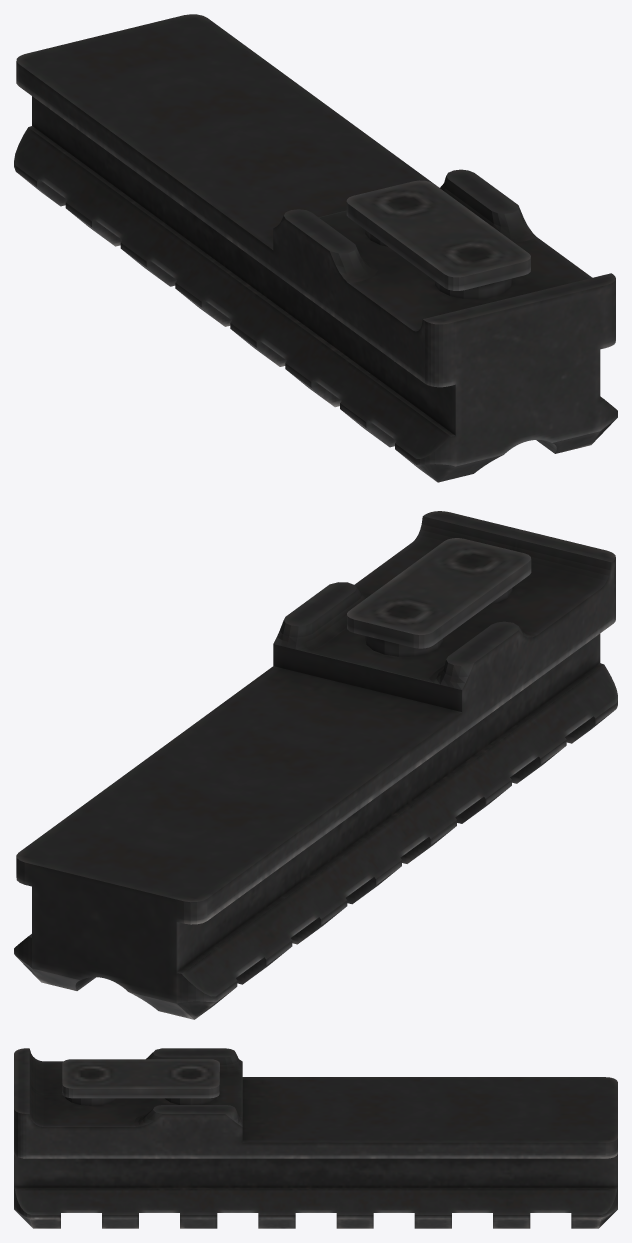
3 views of the same model, one above another, from view 1: azimuth 30°, elevation 25°; view 2: azimuth 150°, elevation 25°; view 3: azimuth 270°, elevation 25° (orthographic). The views are drawn at different scales.
Parts seen in each view (by area): view 1: TW_6698c90829e062525d0ad8ad_PZ_Import; view 2: TW_6698c90829e062525d0ad8ad_PZ_Import; view 3: TW_6698c90829e062525d0ad8ad_PZ_Import.
Boxes of the visible parts, box(x1,y1,x2,y2) form: TW_6698c90829e062525d0ad8ad_PZ_Import: box(14, 14, 617, 482); TW_6698c90829e062525d0ad8ad_PZ_Import: box(14, 511, 617, 1019); TW_6698c90829e062525d0ad8ad_PZ_Import: box(14, 1048, 617, 1228).
Size of the model in its own units: 0.0122 by 0.0447 by 0.0105.
1 material, 1 textured.
